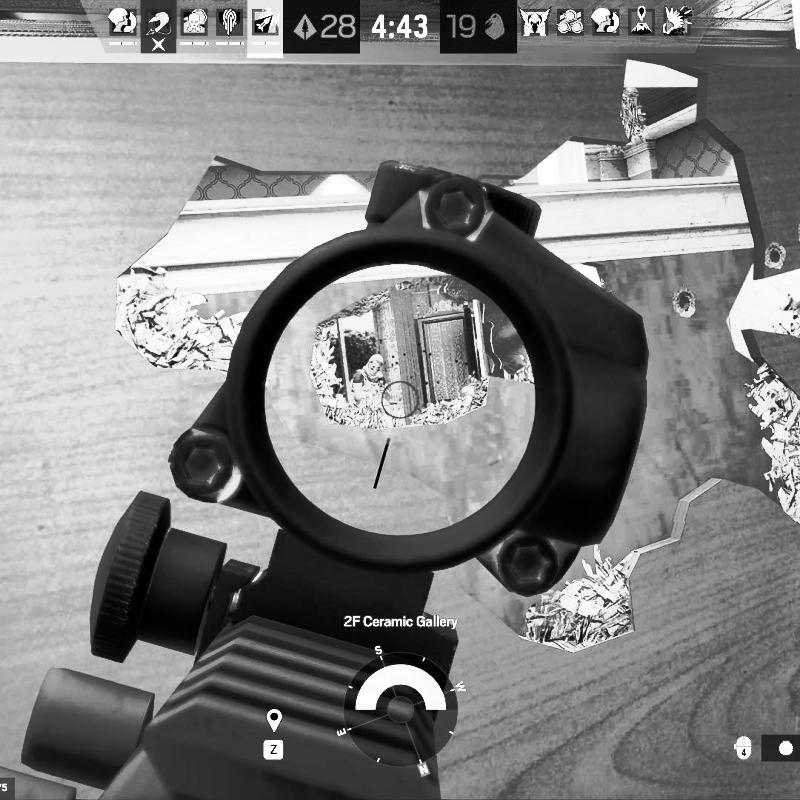Character: (351, 353, 394, 405)
Head: (365, 355, 387, 375)
